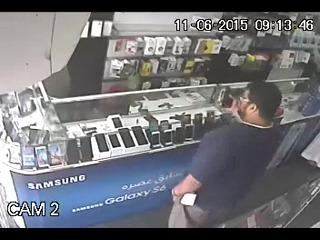Normal: (143, 62, 143, 62)
shoplifting: (165, 80, 288, 228)
